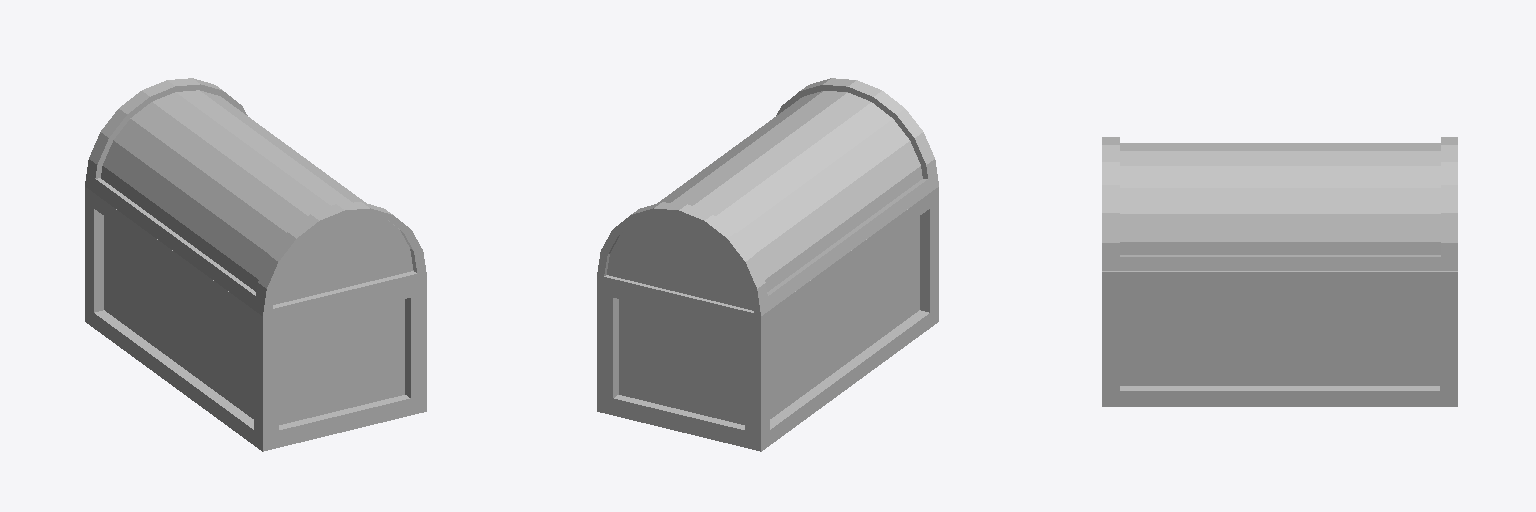
The model's file is chest.obj.
3 renders of one model, left to right at view 1: azimuth 30°, elevation 25°; view 2: azimuth 150°, elevation 25°; view 3: azimuth 270°, elevation 25°, orthographic.
Parts seen in each view (by area): view 1: pCube2; view 2: pCube2; view 3: pCube2.
Boxes of the visible parts, x1,y1,x2,y2 form: pCube2: [85, 78, 426, 451]; pCube2: [597, 78, 938, 451]; pCube2: [1102, 137, 1457, 406].
Bounding box in the file's own units: 5 × 6.43 × 9.38.